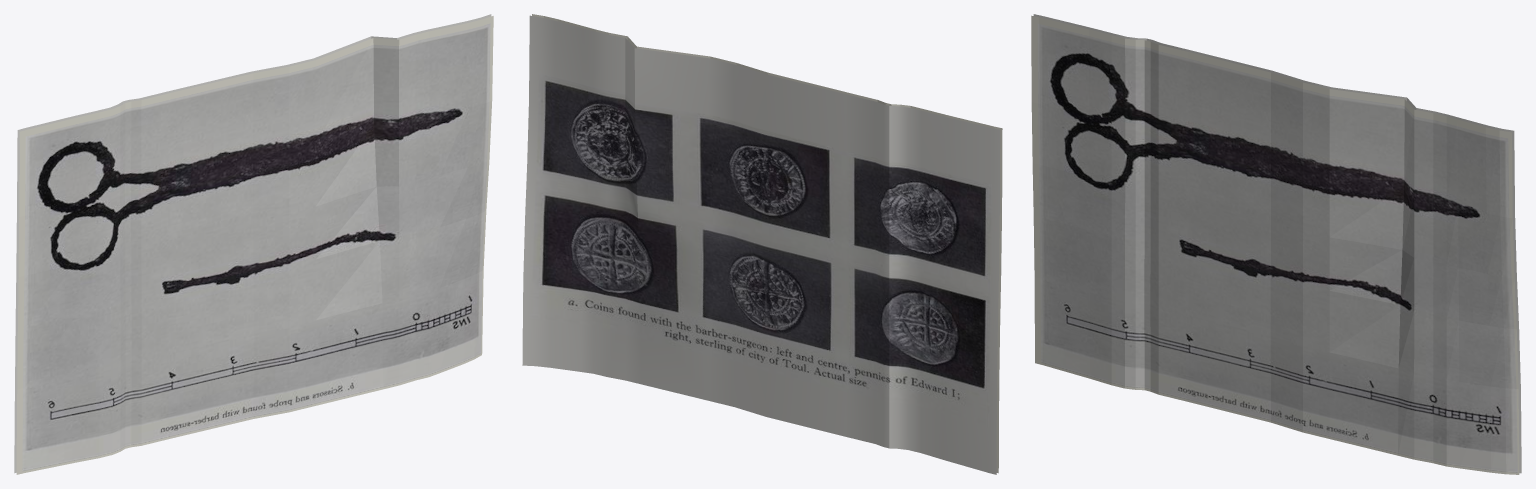
Rendered from model_Barberstone.fbx.
3 renders of one model, left to right at view 1: azimuth 30°, elevation 25°; view 2: azimuth 150°, elevation 25°; view 3: azimuth 330°, elevation 25°, orthographic. The views are drawn at different scales.
Visible parts, largest first — view 1: Barbestone; view 2: Barbestone; view 3: Barbestone.
Boxes of the visible parts, box(x1,y1,x2,y2) form: Barbestone: box(14, 14, 493, 474); Barbestone: box(522, 14, 1002, 474); Barbestone: box(1031, 14, 1521, 474).
Size of the model in its own units: 30.16 by 21 by 1.43.
